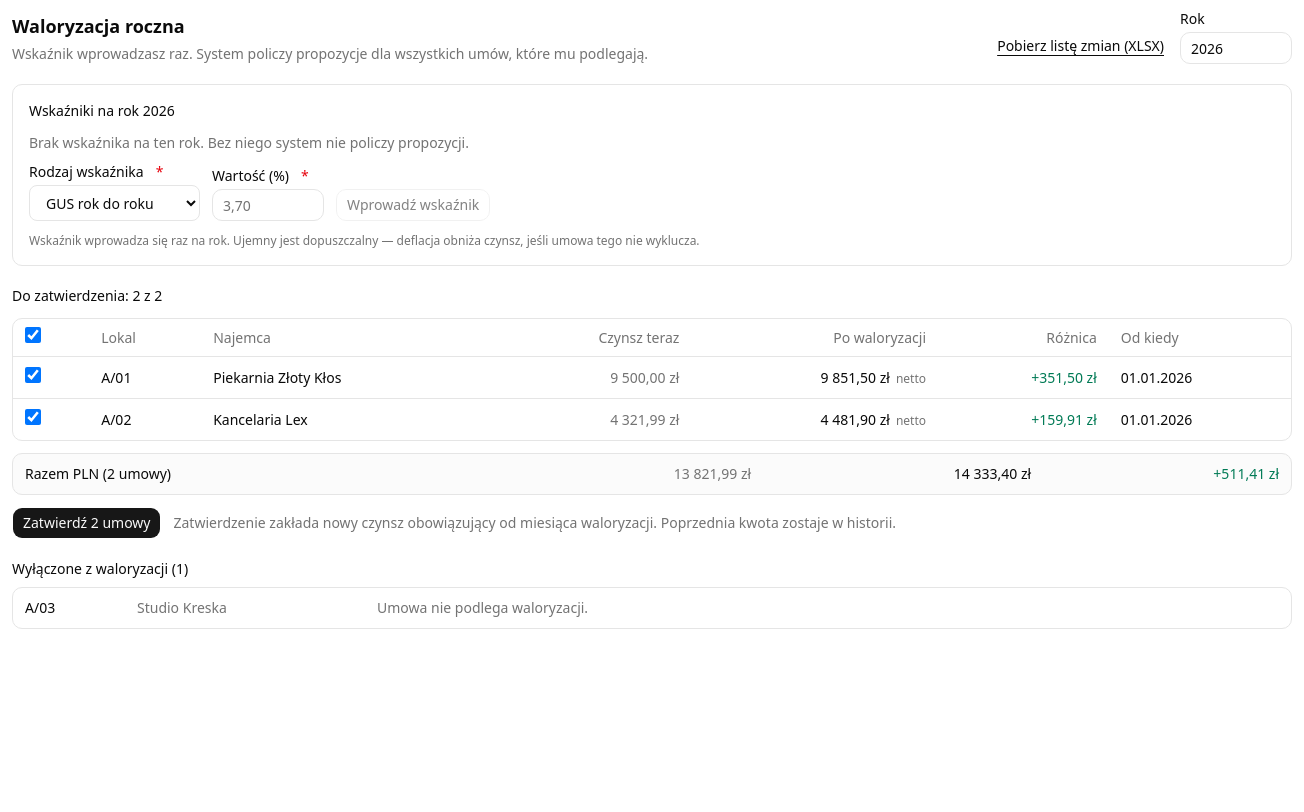
Test: Ekran waloryzacji › odznaczenie wszystkiego blokuje zatwierdzenie
Expected: the text "A/01" is shown, [89, 356, 201, 398]
Click the checkbox named "Zaznacz wszystkie" at (33, 335), box [25, 327, 41, 343]
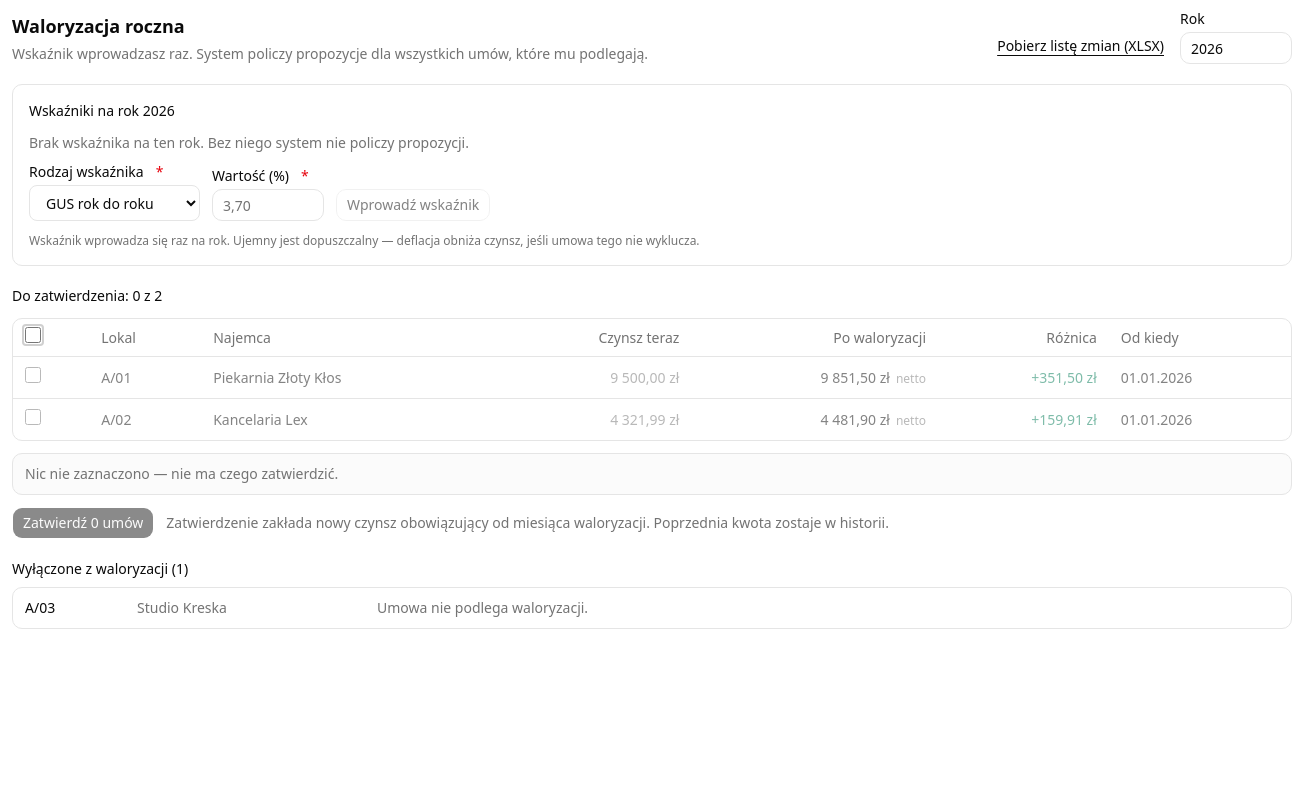
Result: the text "Nic nie zaznaczono — nie ma czego zatwierdzić." is shown at [12, 453, 1292, 495]
Result: the button "Zatwierdź 0 umów" is disabled at [12, 507, 154, 539]
